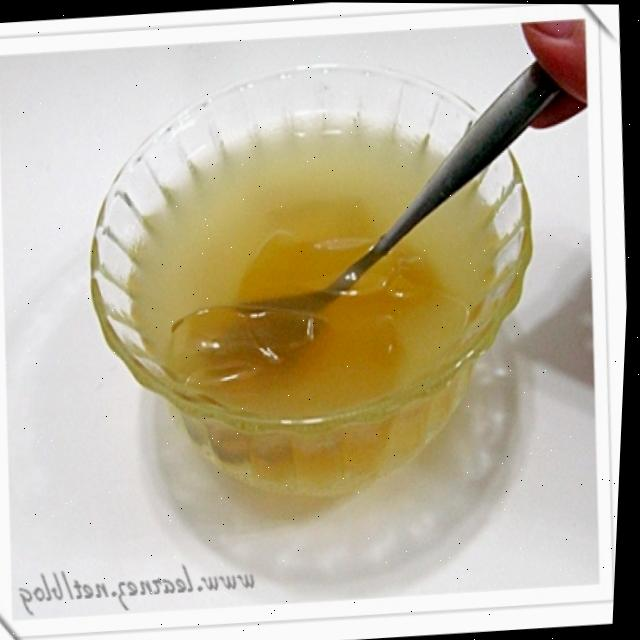蛋糕甜品: (98, 80, 541, 472)
